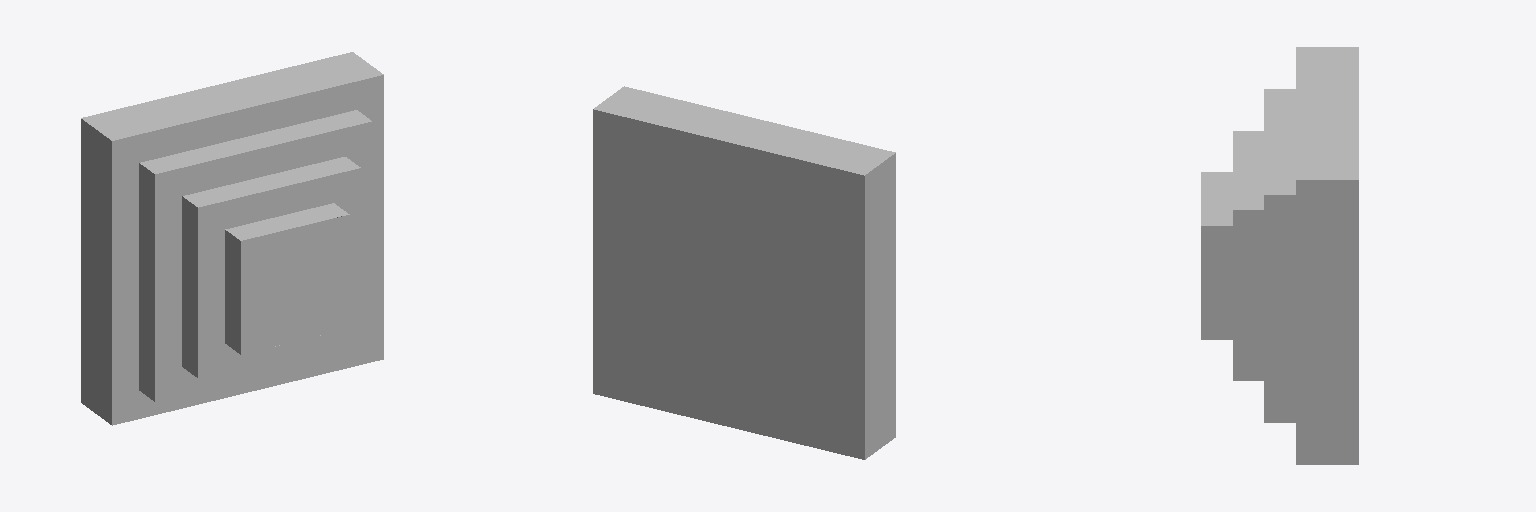
File: reader.obj
3 views of the same model, side by side, from view 1: azimuth 30°, elevation 25°; view 2: azimuth 150°, elevation 25°; view 3: azimuth 270°, elevation 25° (orthographic).
Parts seen in each view (by area): view 1: one, two, three, back, four; view 2: one; view 3: one, two, three, four.
Boxes of the visible parts, x1=… form: one: x1=81, y1=52, x2=383, y2=425; two: x1=139, y1=110, x2=372, y2=401; three: x1=182, y1=157, x2=360, y2=377; back: x1=241, y1=215, x2=349, y2=354; four: x1=225, y1=203, x2=349, y2=354; one: x1=593, y1=86, x2=895, y2=459; one: x1=1296, y1=47, x2=1358, y2=464; two: x1=1264, y1=89, x2=1295, y2=422; three: x1=1233, y1=131, x2=1263, y2=380; four: x1=1201, y1=172, x2=1232, y2=339.
Size of the model in its own units: 0.625 by 0.625 by 0.3125.